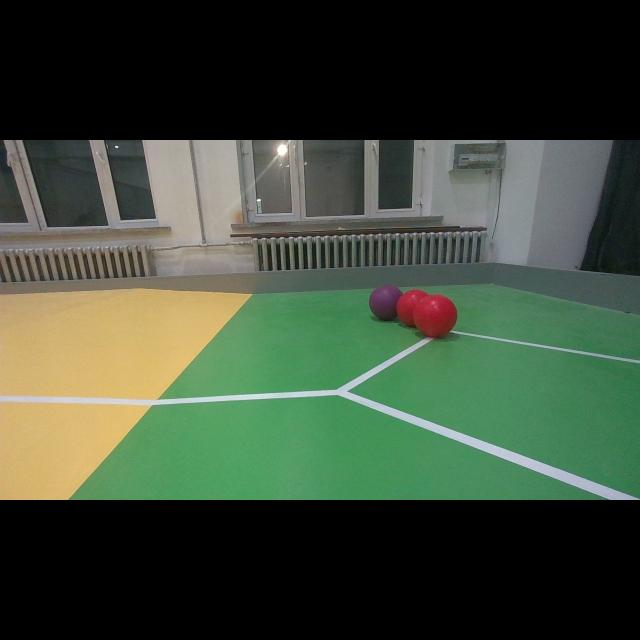P: (369, 284, 405, 320)
R: (413, 295, 457, 337), (396, 286, 429, 318)
